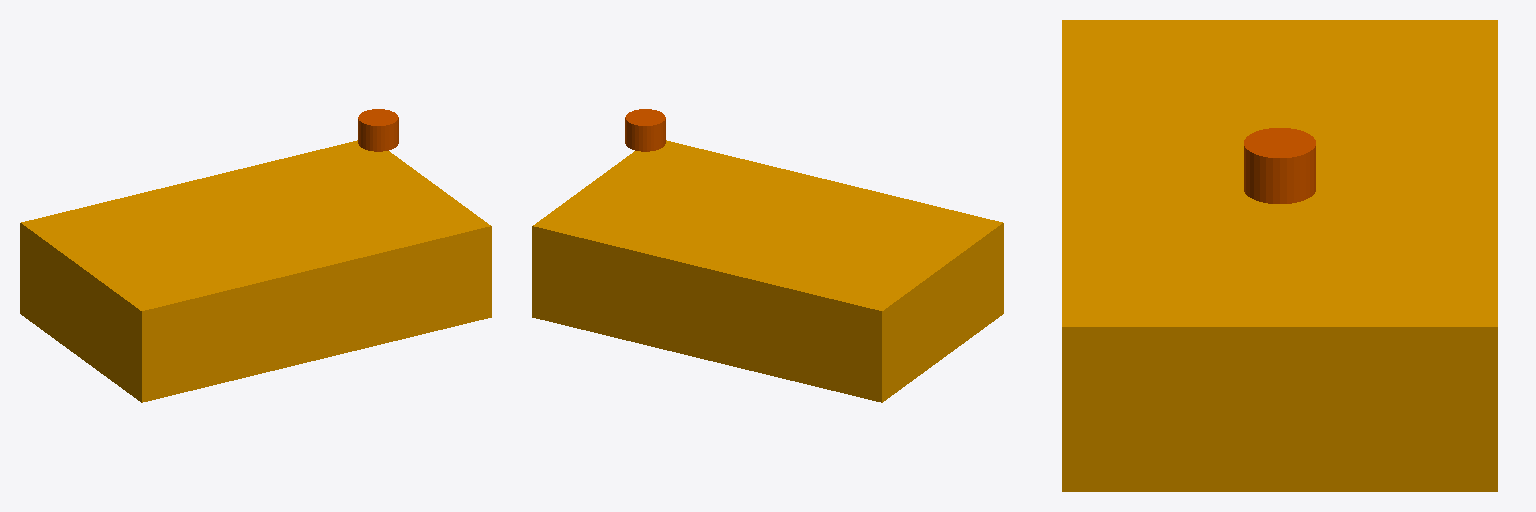
robot.urdf — minimal_boat:
<?xml version="1.0"?>
<!-- An agent-written boat (the UrdfTests fixture): a box hull, two thrusters (one tagged the ros2_control way, one by name only)
     and a lidar tagged the Gazebo way. No crane-specific markup. -->
<robot name="minimal_boat">
  <link name="base_link">
    <visual><geometry><box size="1.0 0.6 0.25"/></geometry></visual>
    <collision><geometry><box size="1.0 0.6 0.25"/></geometry></collision>
    <inertial><mass value="20"/><inertia ixx="0.7" ixy="0" ixz="0" iyy="1.8" iyz="0" izz="2.2"/></inertial>
  </link>

  <link name="left_thruster_link">
    <inertial><mass value="0.4"/><inertia ixx="0.0007" ixy="0" ixz="0" iyy="0.0007" iyz="0" izz="0.0006"/></inertial>
  </link>
  <joint name="left_thruster_joint" type="fixed">
    <parent link="base_link"/><child link="left_thruster_link"/>
    <origin xyz="-0.45 0.25 -0.15" rpy="0 1.5708 0"/>
    <ros2_control><param name="thruster">true</param></ros2_control>
  </joint>
  <link name="left_propeller_link">
    <inertial><mass value="0.02"/><inertia ixx="0.0001" ixy="0" ixz="0" iyy="0.0001" iyz="0" izz="0.0001"/></inertial>
  </link>
  <joint name="left_propeller_joint" type="continuous">
    <parent link="left_thruster_link"/><child link="left_propeller_link"/>
    <origin xyz="0 0 -0.01"/><axis xyz="0 0 1"/>
  </joint>

  <link name="right_thruster_link">
    <inertial><mass value="0.4"/><inertia ixx="0.0007" ixy="0" ixz="0" iyy="0.0007" iyz="0" izz="0.0006"/></inertial>
  </link>
  <joint name="right_thruster_joint" type="fixed">
    <parent link="base_link"/><child link="right_thruster_link"/>
    <origin xyz="-0.45 -0.25 -0.15" rpy="0 1.5708 0"/>
  </joint>
  <link name="right_propeller_link">
    <inertial><mass value="0.02"/><inertia ixx="0.0001" ixy="0" ixz="0" iyy="0.0001" iyz="0" izz="0.0001"/></inertial>
  </link>
  <joint name="right_propeller_joint" type="continuous">
    <parent link="right_thruster_link"/><child link="right_propeller_link"/>
    <origin xyz="0 0 -0.01"/><axis xyz="0 0 1"/>
  </joint>

  <link name="laser_frame">
    <visual><geometry><cylinder radius="0.05" length="0.07"/></geometry></visual>
  </link>
  <joint name="laser_joint" type="fixed">
    <parent link="base_link"/><child link="laser_frame"/>
    <origin xyz="0.35 0 0.3"/>
  </joint>
  <gazebo reference="laser_frame">
    <sensor name="lidar" type="gpu_lidar"><update_rate>10</update_rate></sensor>
  </gazebo>
</robot>

--- Facts derived from the render (not from the file) ---
The picture shows the robot from 3 angles, left to right: view 1: azimuth 30°, elevation 25°; view 2: azimuth 150°, elevation 25°; view 3: azimuth 270°, elevation 25°; orthographic projection.
Model minimal_boat with 6 links and 5 joints (2 continuous, 3 fixed), rooted at base_link, posed all joints at 0.
Links seen in each view (by area): view 1: base_link, laser_frame; view 2: base_link, laser_frame; view 3: base_link, laser_frame.
Boxes of the visible links, x1,y1,x2,y2 form: base_link: (20,140,491,402); laser_frame: (358,109,398,151); base_link: (532,140,1003,402); laser_frame: (625,109,665,151); base_link: (1062,20,1497,491); laser_frame: (1244,128,1315,203).
Bounding box of the posed robot: 1 × 0.6 × 0.46 m (x, y, z).
Geometry: primitives only (box / cylinder / sphere), no mesh files.
